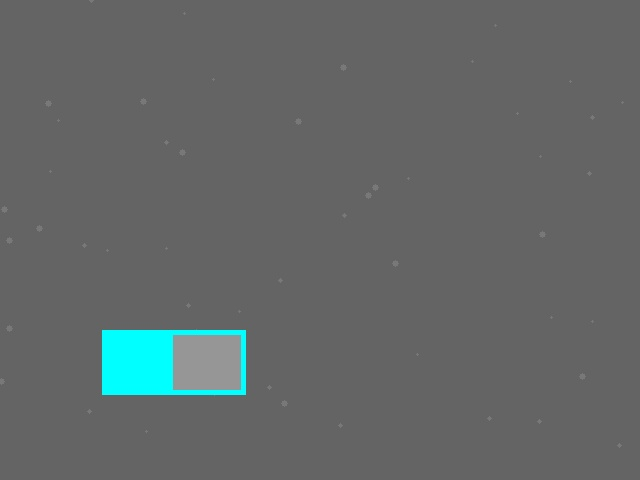truck: (102, 330, 245, 394)
